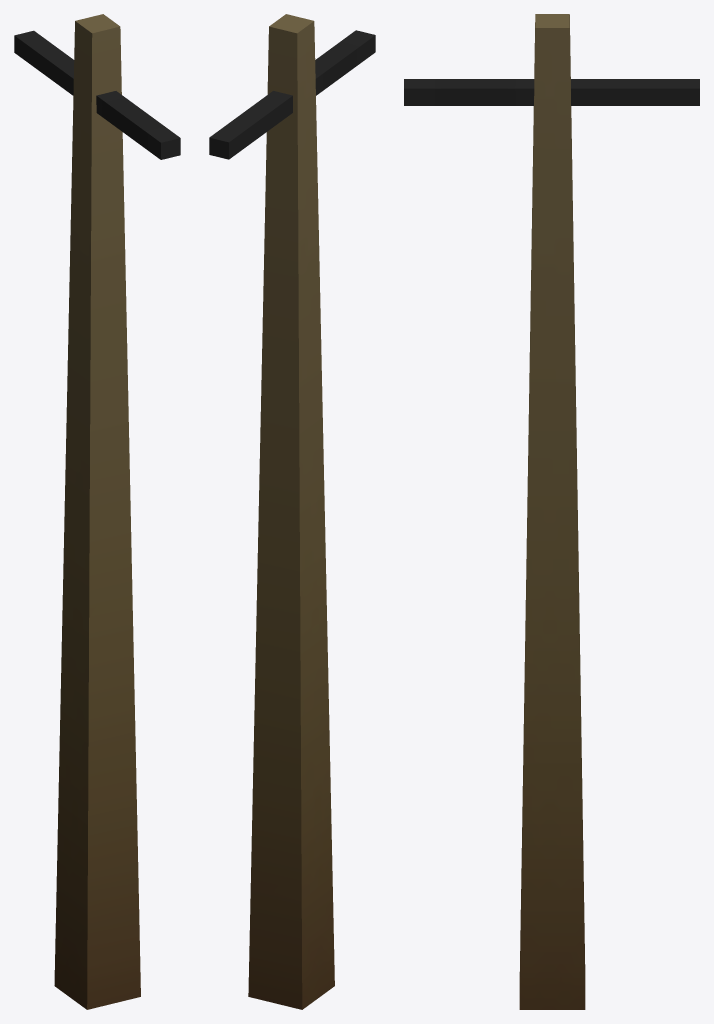
The model's file is SM_Pillar_01.fbx.
The picture shows the model from 3 angles, left to right: view 1: azimuth 30°, elevation 25°; view 2: azimuth 150°, elevation 25°; view 3: azimuth 270°, elevation 25°; orthographic projection.
Visible parts, largest first — view 1: Cube.025; view 2: Cube.025; view 3: Cube.025.
Boxes of the visible parts, x1=… form: Cube.025: x1=14, y1=14, x2=180, y2=1009; Cube.025: x1=209, y1=14, x2=375, y2=1009; Cube.025: x1=404, y1=14, x2=699, y2=1009.
Bounding box in the file's own units: 2.72 × 46.75 × 12.85.
